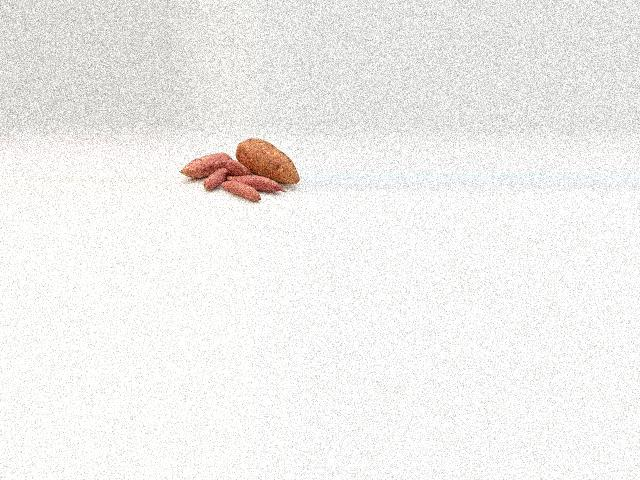sweet_potato: (177, 152, 230, 178)
